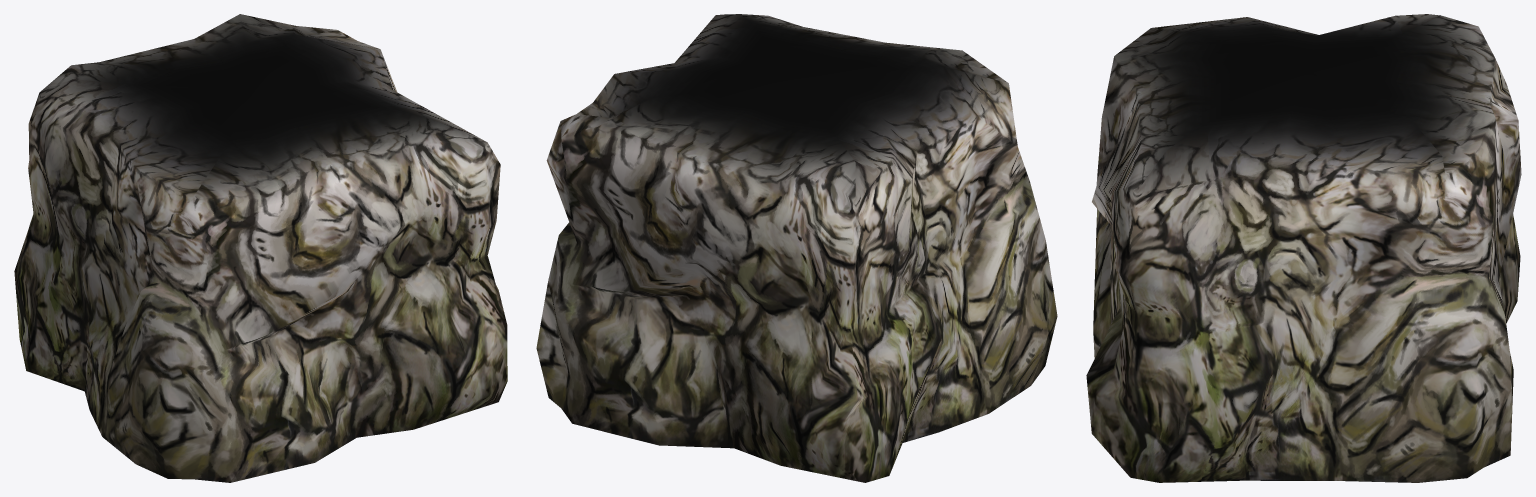
File: STR_WallCaveE.FBX
3 views of the same model, side by side, from view 1: azimuth 30°, elevation 25°; view 2: azimuth 150°, elevation 25°; view 3: azimuth 270°, elevation 25° (orthographic). The views are drawn at different scales.
Parts seen in each view (by area): view 1: STR_WallCaveE; view 2: STR_WallCaveE; view 3: STR_WallCaveE.
Boxes of the visible parts, x1,y1,x2,y2 form: STR_WallCaveE: (14,14,507,482); STR_WallCaveE: (536,14,1057,482); STR_WallCaveE: (1086,14,1521,482).
Bounding box in the file's own units: 536 × 401 × 497.
